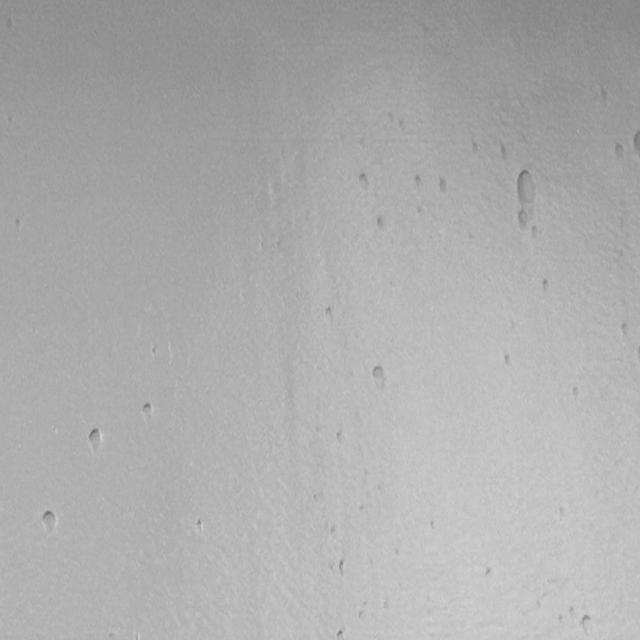pin holes: (514, 170, 540, 210), (37, 508, 60, 536), (84, 425, 105, 454), (370, 362, 390, 392), (355, 170, 374, 197), (579, 613, 598, 639), (514, 209, 532, 236), (618, 318, 636, 344), (554, 502, 574, 525), (372, 213, 390, 236), (333, 558, 351, 580), (140, 401, 156, 424), (613, 142, 627, 166), (530, 224, 546, 244), (467, 138, 483, 158), (149, 341, 165, 361), (437, 176, 452, 197), (323, 304, 338, 323), (570, 385, 584, 405), (482, 566, 498, 583), (502, 352, 516, 370), (334, 429, 348, 447), (412, 174, 424, 193), (428, 517, 442, 532), (194, 518, 207, 534), (328, 522, 340, 539), (5, 16, 17, 33), (310, 492, 324, 506), (540, 278, 552, 294), (13, 218, 25, 234), (554, 613, 568, 626), (568, 605, 580, 620), (414, 204, 426, 219), (335, 626, 349, 638), (631, 130, 638, 153)
